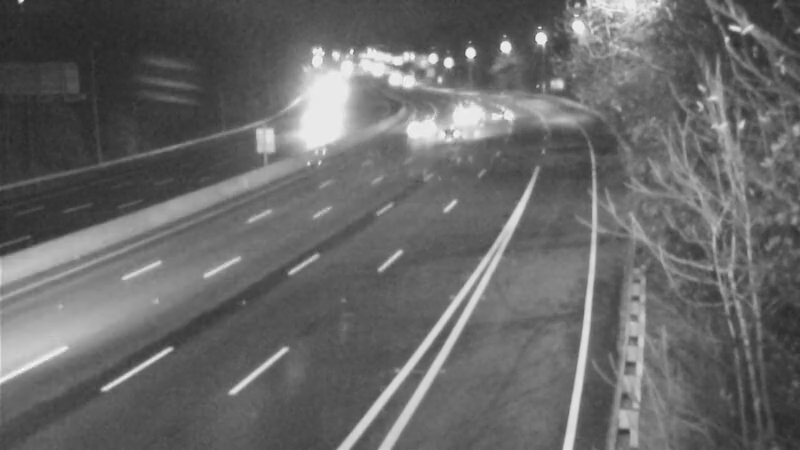vehicle: (443, 85, 493, 135), (473, 84, 523, 134), (394, 102, 444, 152), (422, 108, 472, 158)
